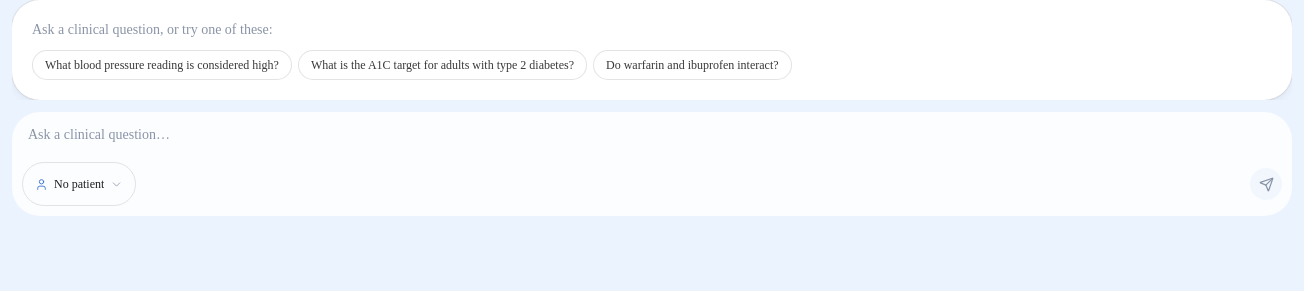
Test: CopilotPanel answer_delta streaming › shows only final.answer immediately when final follows deltas with a different answer
Step 1. Type "first-line therapy?" into the text box with placeholder "Ask a clinical question…" → (652, 134), box [12,112,1292,156]
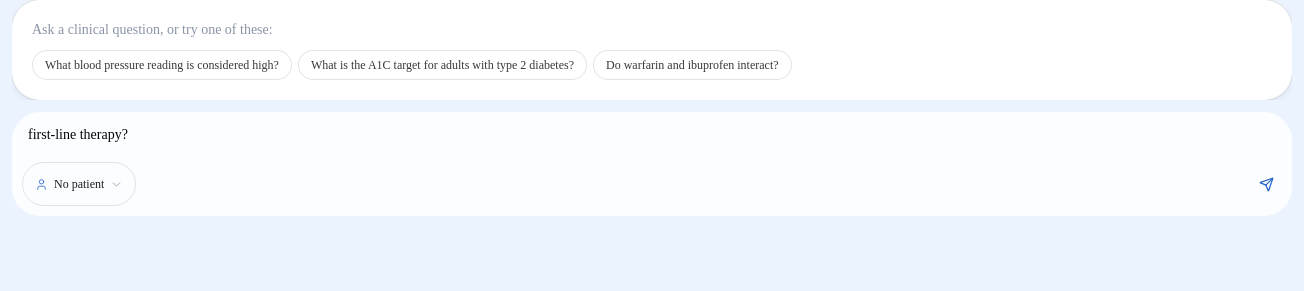
Step 2. Click the button named "Send" → (1266, 184), box [1250,168,1282,200]
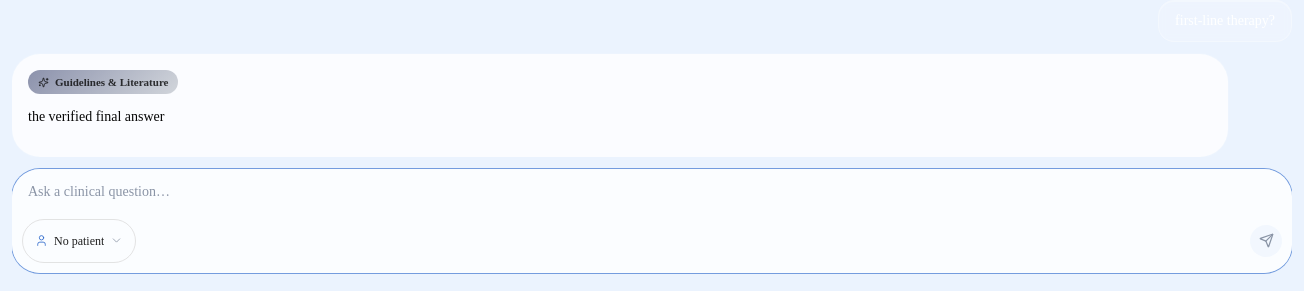
Check: the text "the verified final answer" is shown, box [28,109,164,124]
